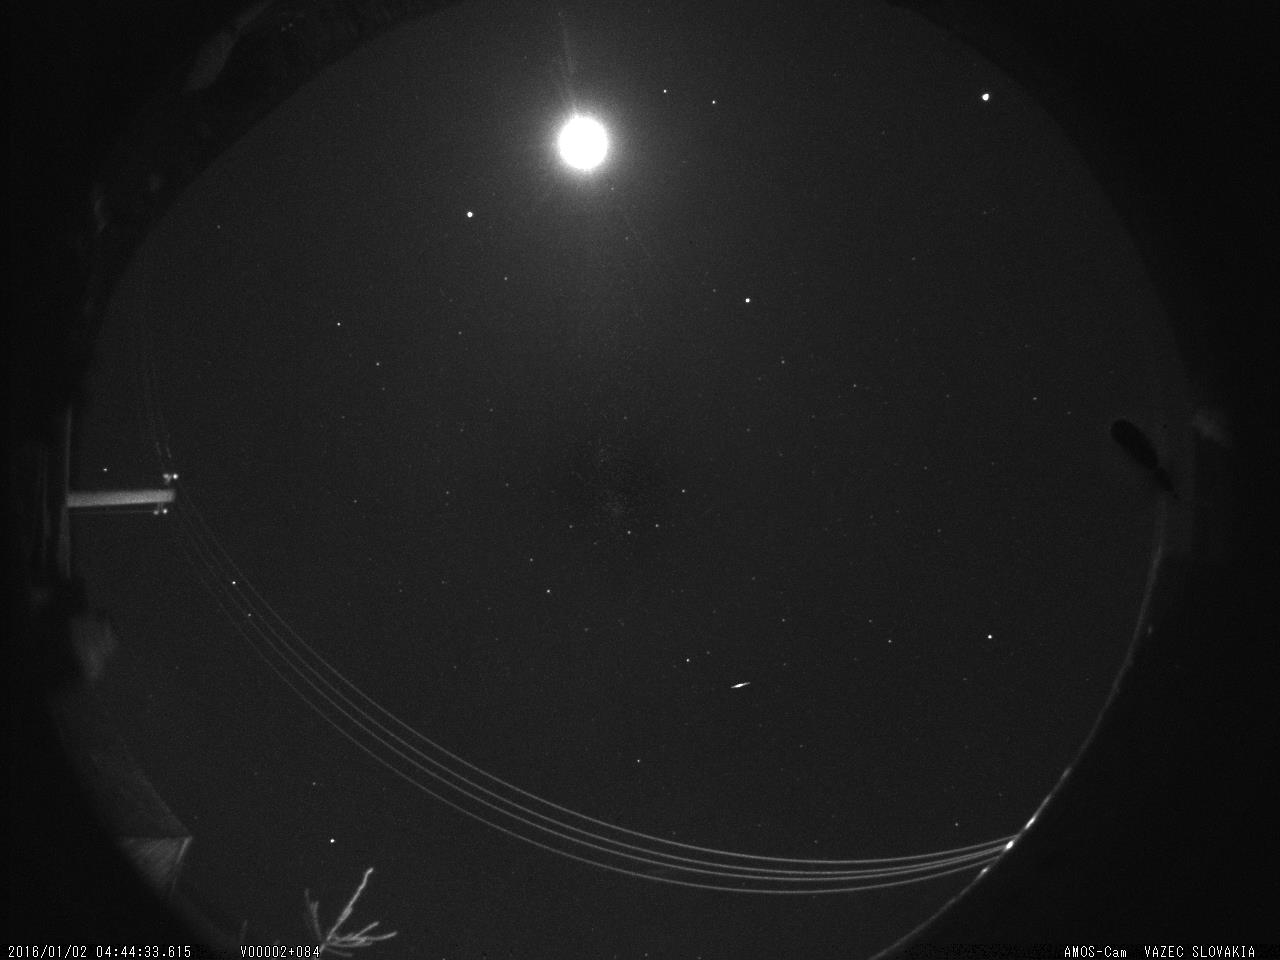meteor: (725, 676, 764, 701)
